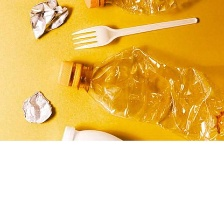bottle: (54, 43, 224, 140), (81, 0, 201, 17), (59, 122, 131, 144)
